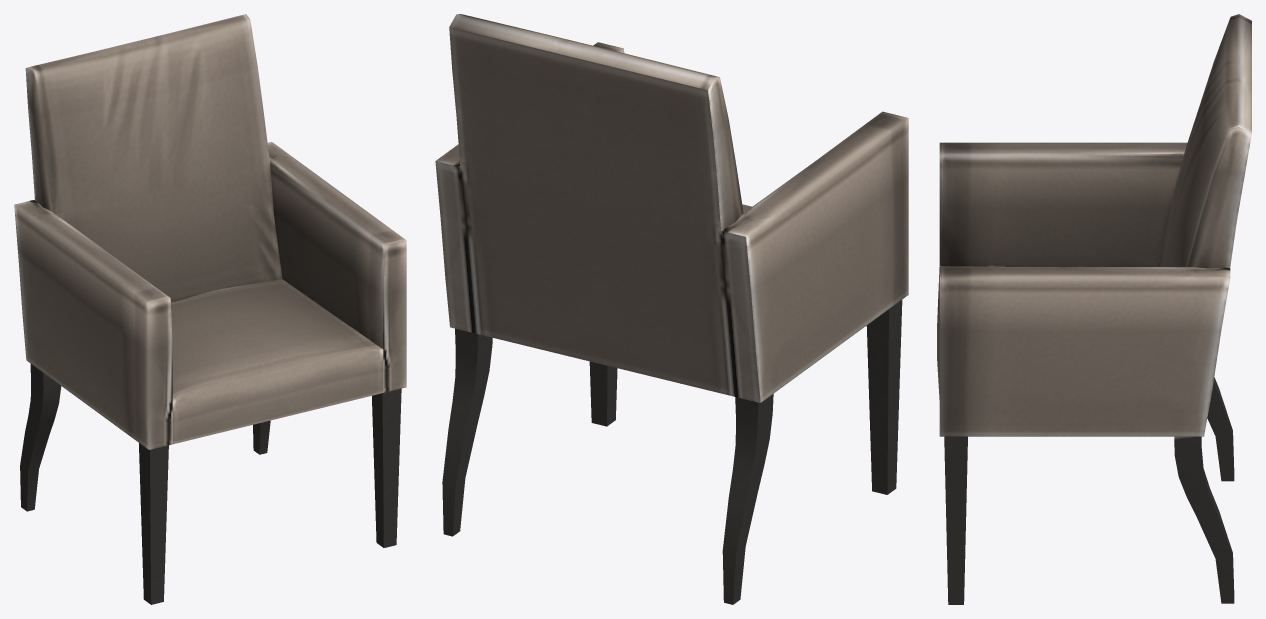
Rendered from Chair05.FBX.
The picture shows the model from 3 angles, left to right: view 1: azimuth 30°, elevation 25°; view 2: azimuth 150°, elevation 25°; view 3: azimuth 270°, elevation 25°; orthographic projection. The views are drawn at different scales.
Parts seen in each view (by area): view 1: Chair05; view 2: Chair05; view 3: Chair05.
Part boxes in pixels (x1=…): Chair05: x1=14, y1=14, x2=406, y2=604; Chair05: x1=435, y1=14, x2=908, y2=604; Chair05: x1=937, y1=14, x2=1251, y2=604.
Bounding box in the file's own units: 53.73 × 51.33 × 84.57.
